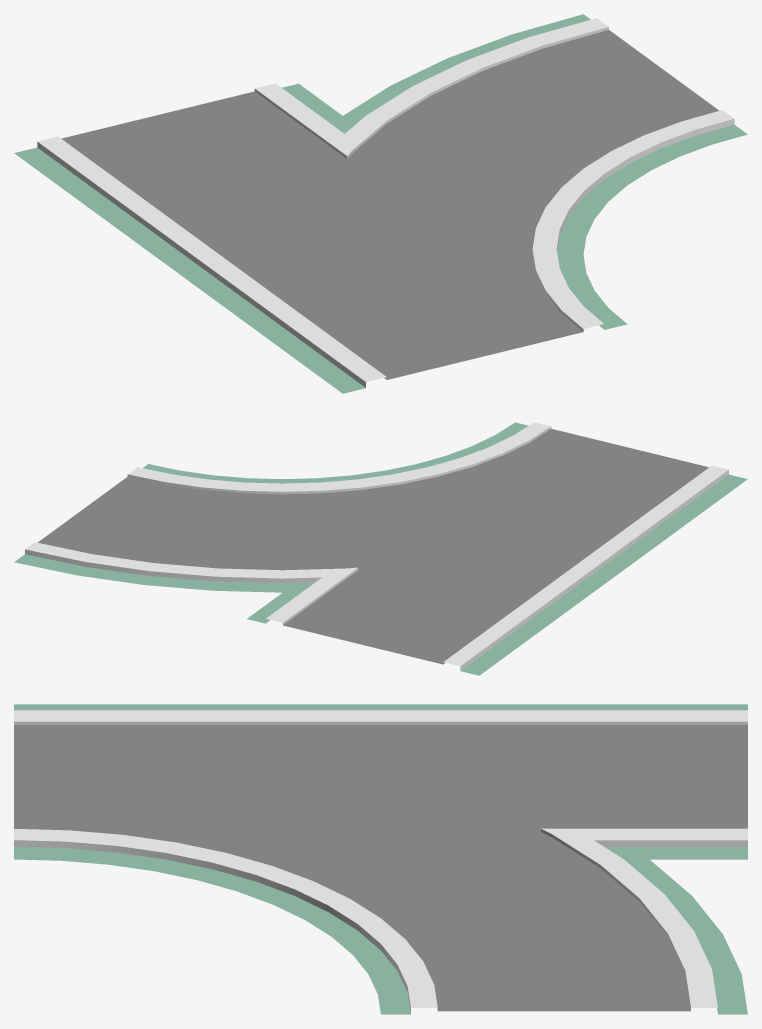
Rendered from roadSplitLarge.glb.
3 renders of one model, top to bottom at view 1: azimuth 30°, elevation 25°; view 2: azimuth 150°, elevation 25°; view 3: azimuth 270°, elevation 25°, orthographic. The views are drawn at different scales.
Visible parts, largest first — view 1: roadSplitLarge(Clone); view 2: roadSplitLarge(Clone); view 3: roadSplitLarge(Clone).
Part boxes in pixels (x1=…): roadSplitLarge(Clone): x1=14, y1=14, x2=747, y2=393; roadSplitLarge(Clone): x1=14, y1=422, x2=747, y2=675; roadSplitLarge(Clone): x1=14, y1=704, x2=747, y2=1014.
Size of the model in its own units: 2 by 0.02 by 2.
